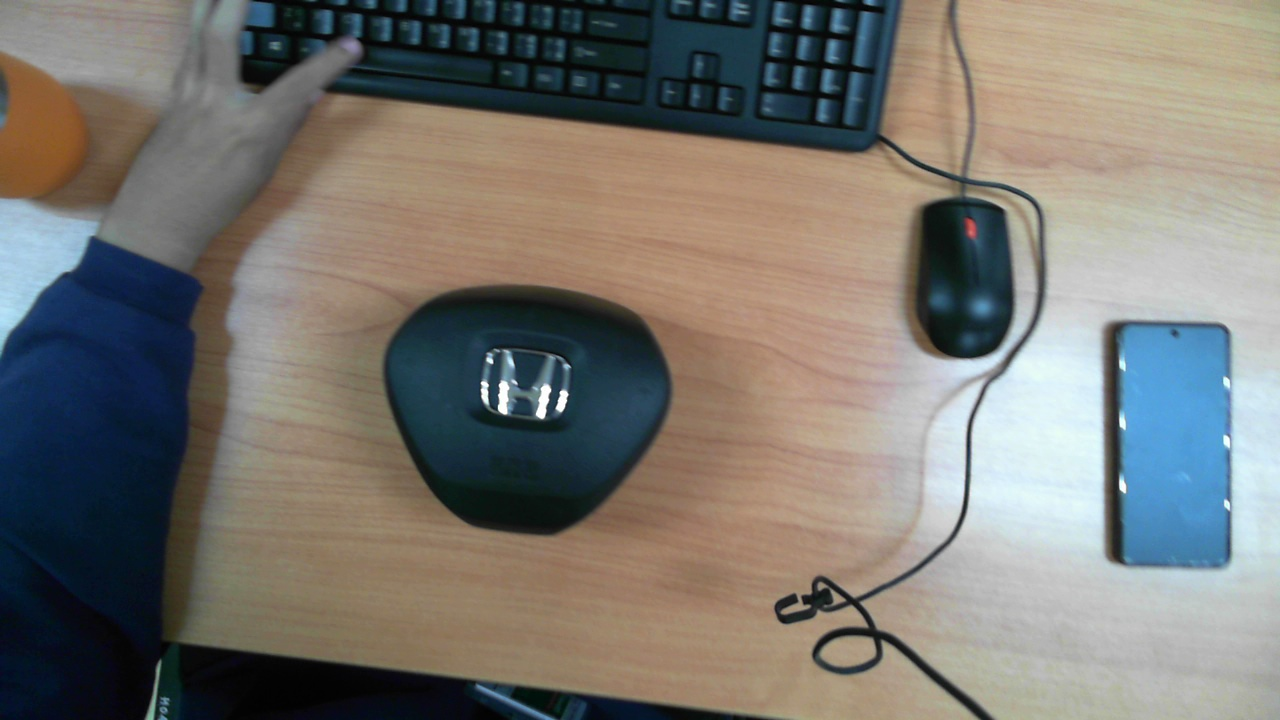Airbag: (384, 283, 672, 533)
